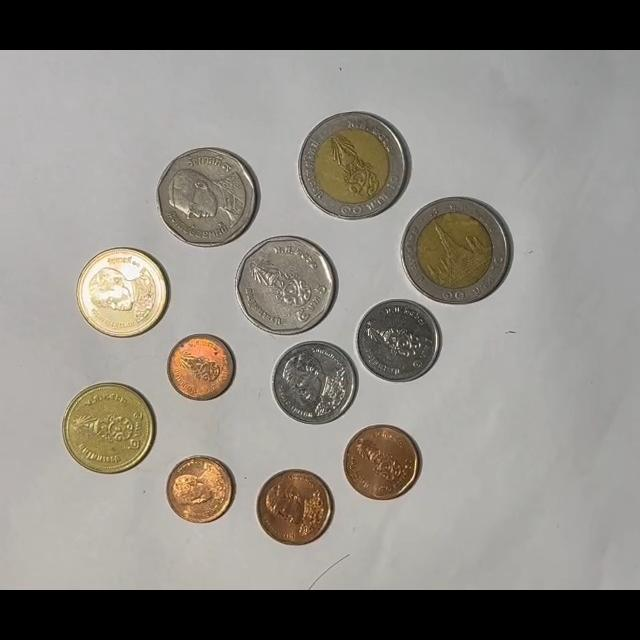1-baht: (356, 298, 442, 383), (271, 340, 357, 425)
10-baht: (298, 111, 409, 221), (401, 197, 512, 306)
2-baht: (62, 382, 156, 474), (76, 247, 168, 340)
25-satang: (166, 455, 237, 525), (167, 333, 236, 401)
5-baht: (156, 147, 260, 248), (235, 235, 338, 336)
50-satang: (343, 424, 420, 501), (256, 469, 333, 546)
